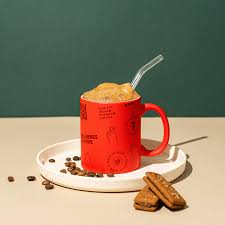mug: (67, 74, 183, 180)
